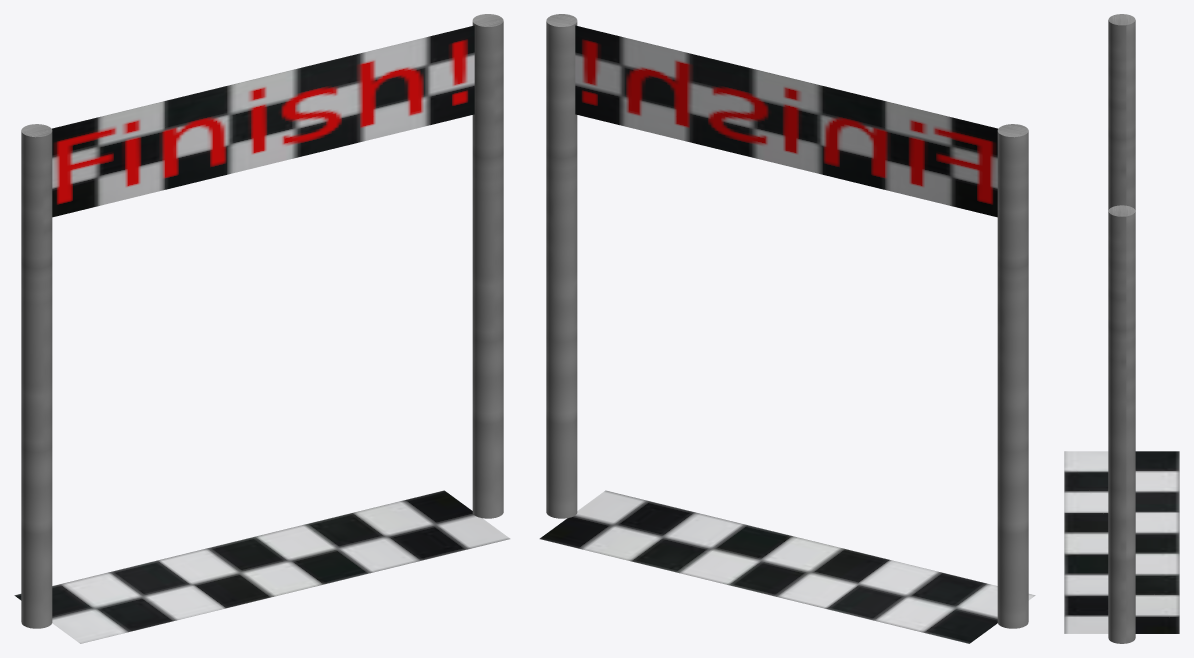
Rendered from Finish.fbx.
3 renders of one model, left to right at view 1: azimuth 30°, elevation 25°; view 2: azimuth 150°, elevation 25°; view 3: azimuth 270°, elevation 25°, orthographic. The views are drawn at different scales.
Parts seen in each view (by area): view 1: pPlane1, pPlane2, pCylinder2, pCylinder1; view 2: pPlane1, pPlane2, pCylinder2, pCylinder1; view 3: pPlane2, pCylinder1, pCylinder2.
Boxes of the visible parts, box(x1,y1,x2,y2) form: pPlane1: box(52, 25, 474, 217); pPlane2: box(14, 490, 510, 643); pCylinder2: box(21, 124, 52, 628); pCylinder1: box(472, 14, 503, 518); pPlane1: box(575, 25, 997, 217); pPlane2: box(539, 490, 1035, 643); pCylinder2: box(997, 124, 1028, 628); pCylinder1: box(546, 14, 577, 518); pPlane2: box(1064, 451, 1179, 633); pCylinder1: box(1108, 205, 1135, 643); pCylinder2: box(1108, 14, 1135, 210).
Size of the model in its own units: 10.6 by 10.41 by 2.55.
Materials: 3 (3 with a texture image).
